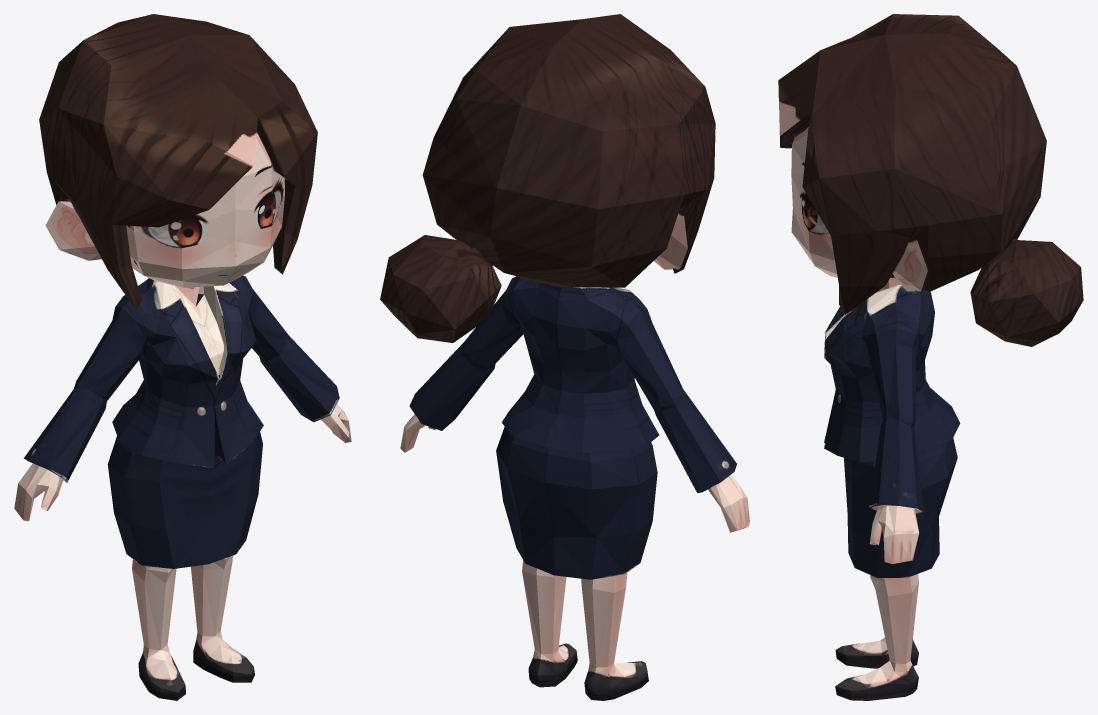
The picture shows the model from 3 angles, left to right: view 1: azimuth 30°, elevation 25°; view 2: azimuth 150°, elevation 25°; view 3: azimuth 270°, elevation 25°; orthographic projection. The views are drawn at different scales.
Bounding box in the file's own units: 1.07 × 2 × 0.8624.
Materials: 1 (1 with a texture image).
